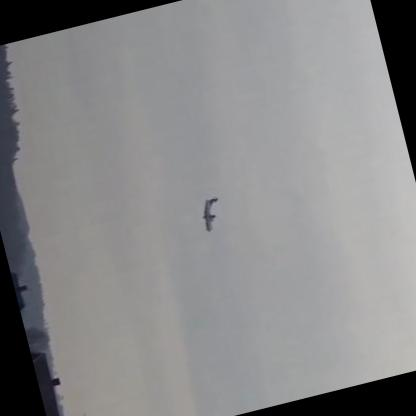plane: (196, 196, 226, 234)
